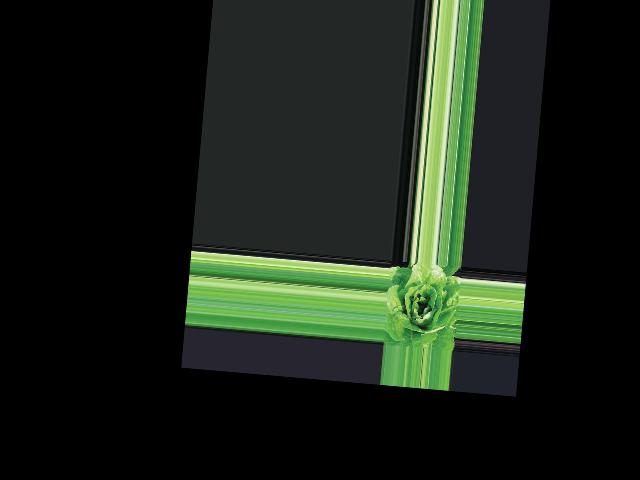lettuce: (385, 264, 462, 350)
